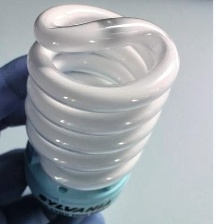light_bulb: (17, 2, 186, 224)
